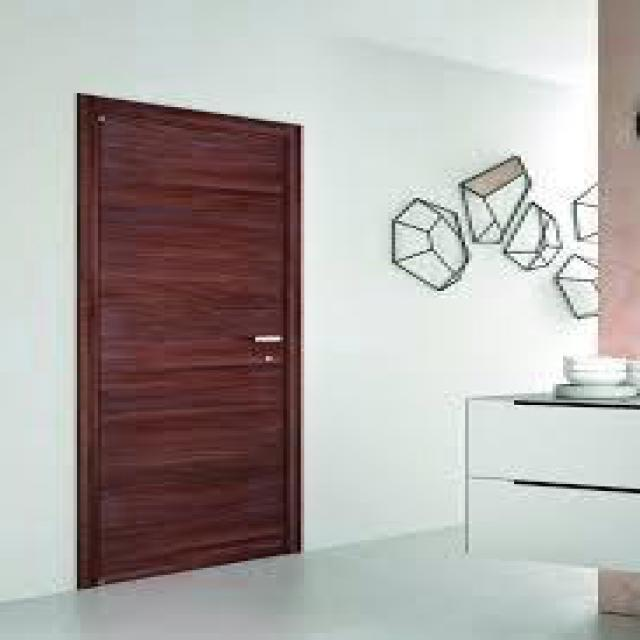door: (76, 92, 303, 587)
